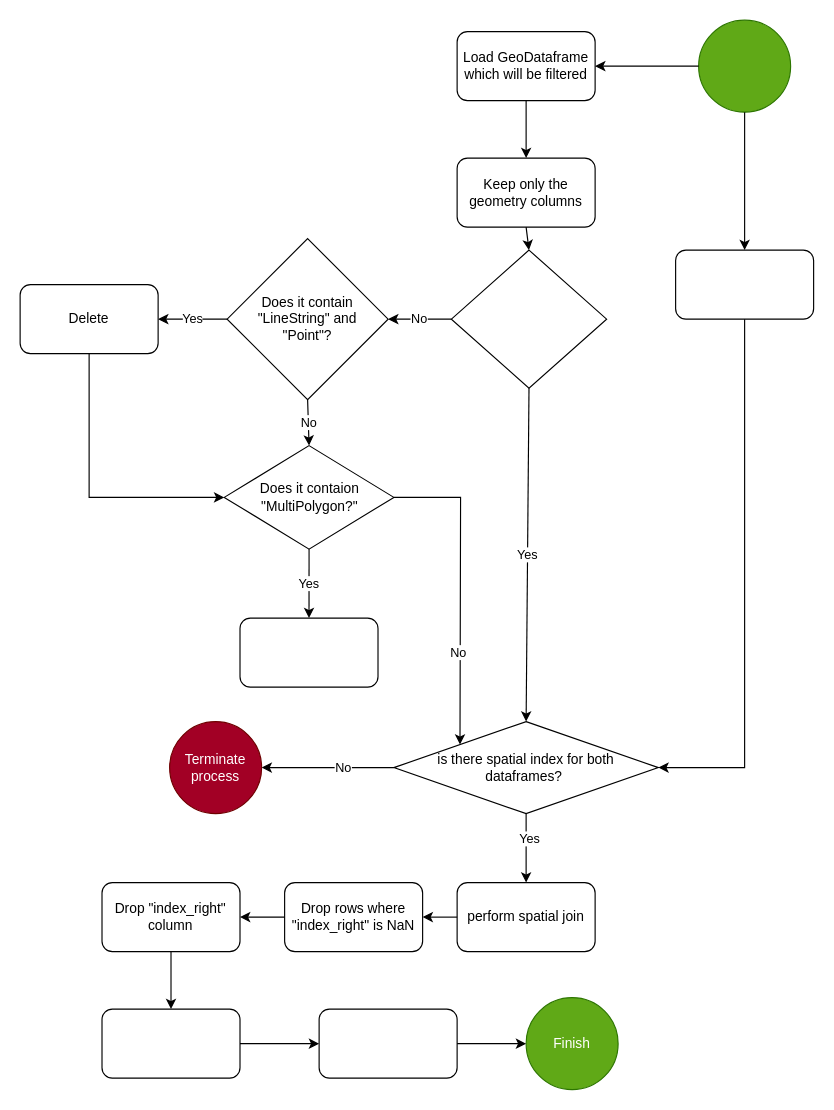
Image size: 834x1110. Some labels were removed from this diagram. The centre of each missing label's shape, as x and y in pixels:
Does it contain only "Polygon" ?: (528,318)
Drop duplicated rows: (170,1043)
Load GeoDataframe which contains bikelanes: (744,284)
Return GeoDataframe: (387,1043)
Start: (744,65)
Use explode(): (308,652)
